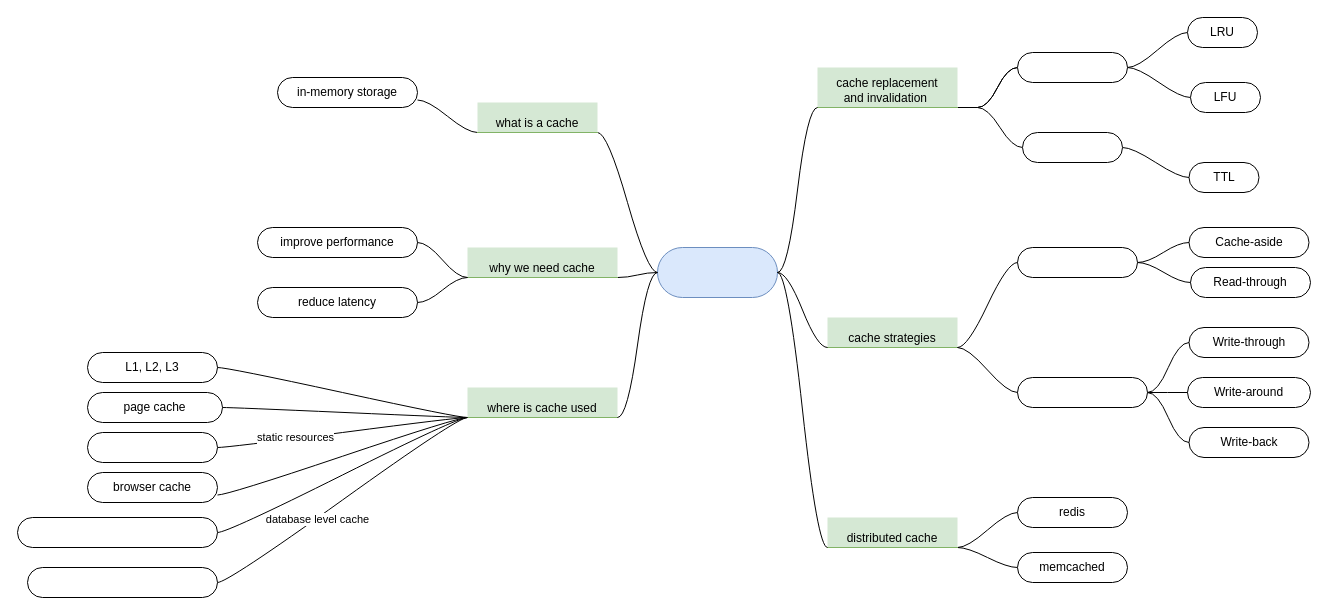
This 1328x615 diagram has some shape labels left out. The centre of each missing label's shape, as x and y in pixels:
"API Gateway - Result Cache" belongs at point 117,532.
"buffer, result, query, session" belongs at point 122,582.
"Cache" belongs at point 717,272.
"CDN" belongs at point 152,447.
"invalidation" belongs at point 1072,147.
"read strategies" belongs at point 1077,262.
"replacement" belongs at point 1072,67.
"write strategies" belongs at point 1082,392.
